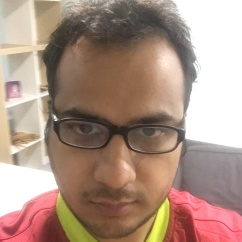glasses: (48, 116, 188, 155)
